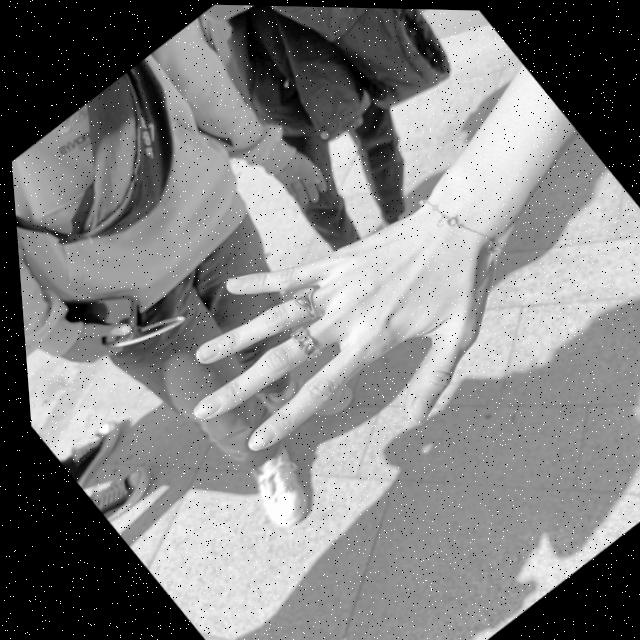hand: (119, 81, 633, 537)
